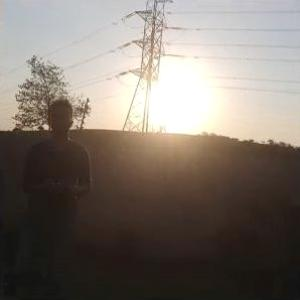follow: (13, 92, 97, 299)
